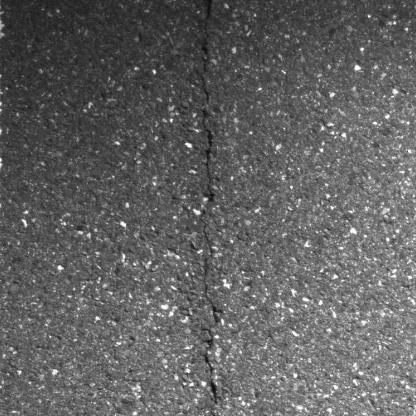Cracks: (193, 0, 228, 416)
